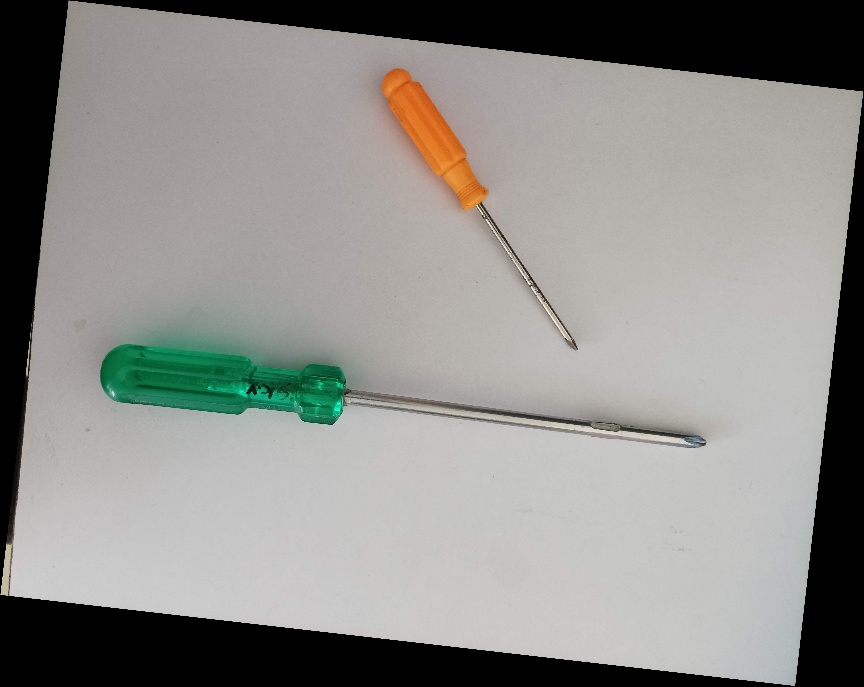screwdriver: (98, 341, 709, 451), (376, 64, 581, 354)
